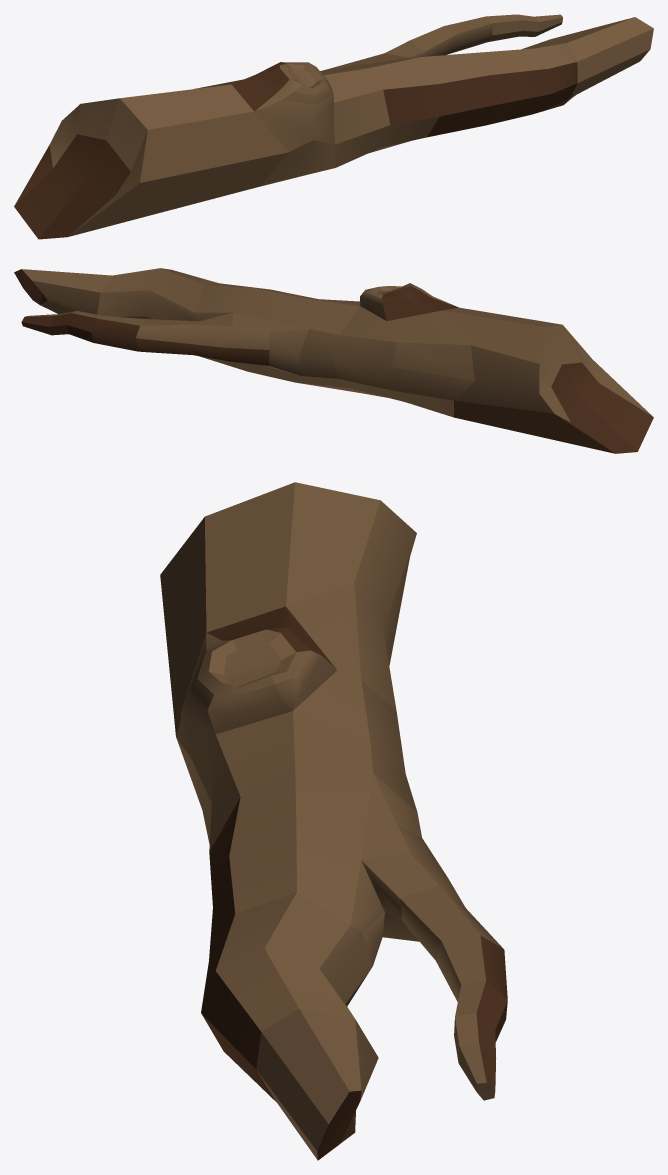
Rendered from log.fbx.
3 renders of one model, top to bottom at view 1: azimuth 30°, elevation 25°; view 2: azimuth 150°, elevation 25°; view 3: azimuth 270°, elevation 25°, orthographic. The views are drawn at different scales.
Parts seen in each view (by area): view 1: log; view 2: log; view 3: log.
Boxes of the visible parts, left/top/right/bottom form: log: left=14, top=14, right=653, bottom=239; log: left=14, top=268, right=653, bottom=453; log: left=160, top=482, right=507, bottom=1160.
Size of the model in its own units: 326 by 57.52 by 80.58.
